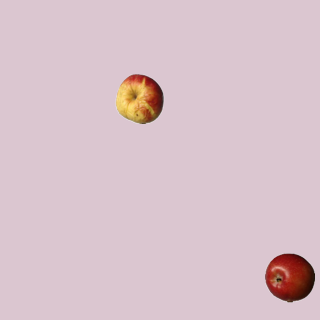Apple Braeburn: (264, 252, 314, 302)
Apple Red Yellow 1: (114, 73, 164, 123)
